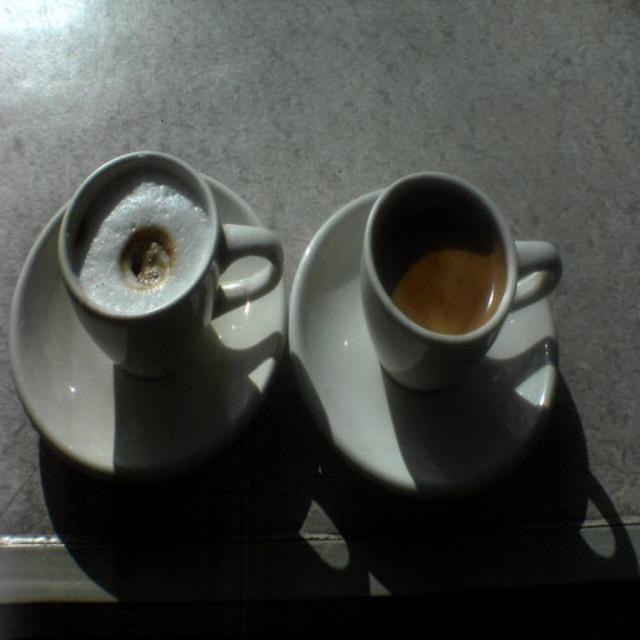Coffee: (71, 166, 213, 312), (374, 195, 508, 333)
Tea: (72, 172, 207, 312), (377, 192, 500, 333)
